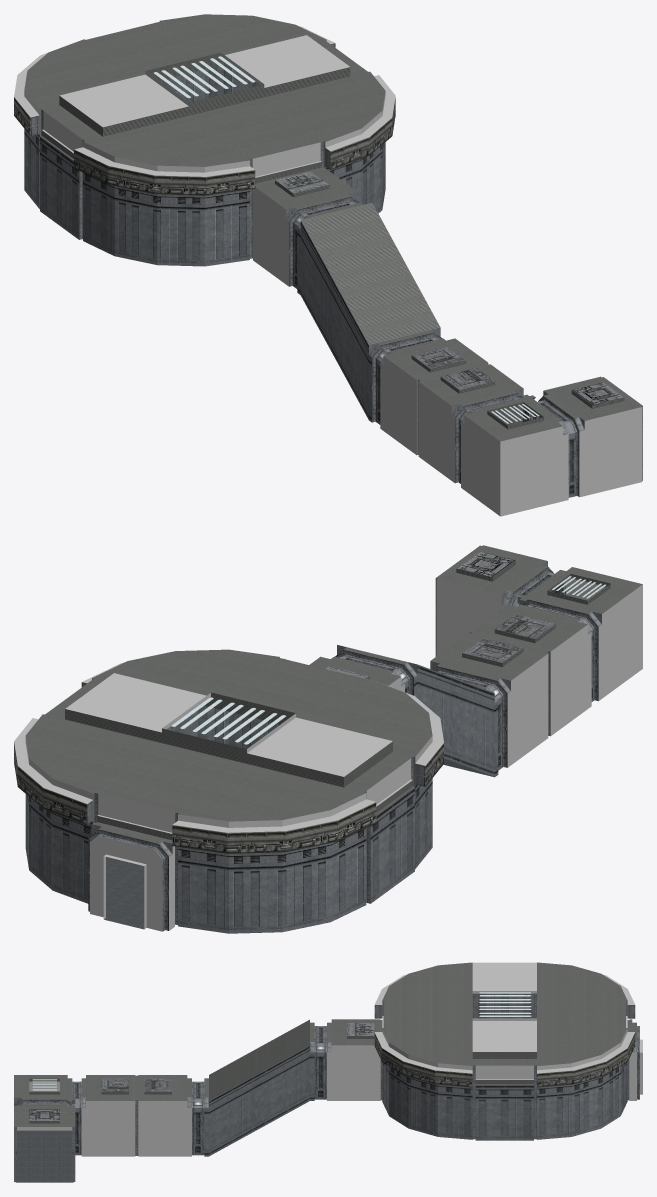
File: poi_all_impl_bunker_warren_s01_r32_hall32_mesh_r32.fbx
The picture shows the model from 3 angles, top to bottom: view 1: azimuth 30°, elevation 25°; view 2: azimuth 150°, elevation 25°; view 3: azimuth 270°, elevation 25°; orthographic projection. The views are drawn at different scales.
Visible parts, largest first — view 1: mesh_node; view 2: mesh_node; view 3: mesh_node.
Part boxes in pixels (x1,y1,x2,y2): mesh_node: [14, 14, 642, 516]; mesh_node: [14, 545, 642, 933]; mesh_node: [14, 962, 642, 1182].
Size of the model in its own units: 17 by 10 by 41.
